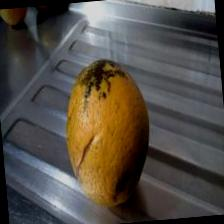Mango Unripe: (61, 55, 156, 208)
